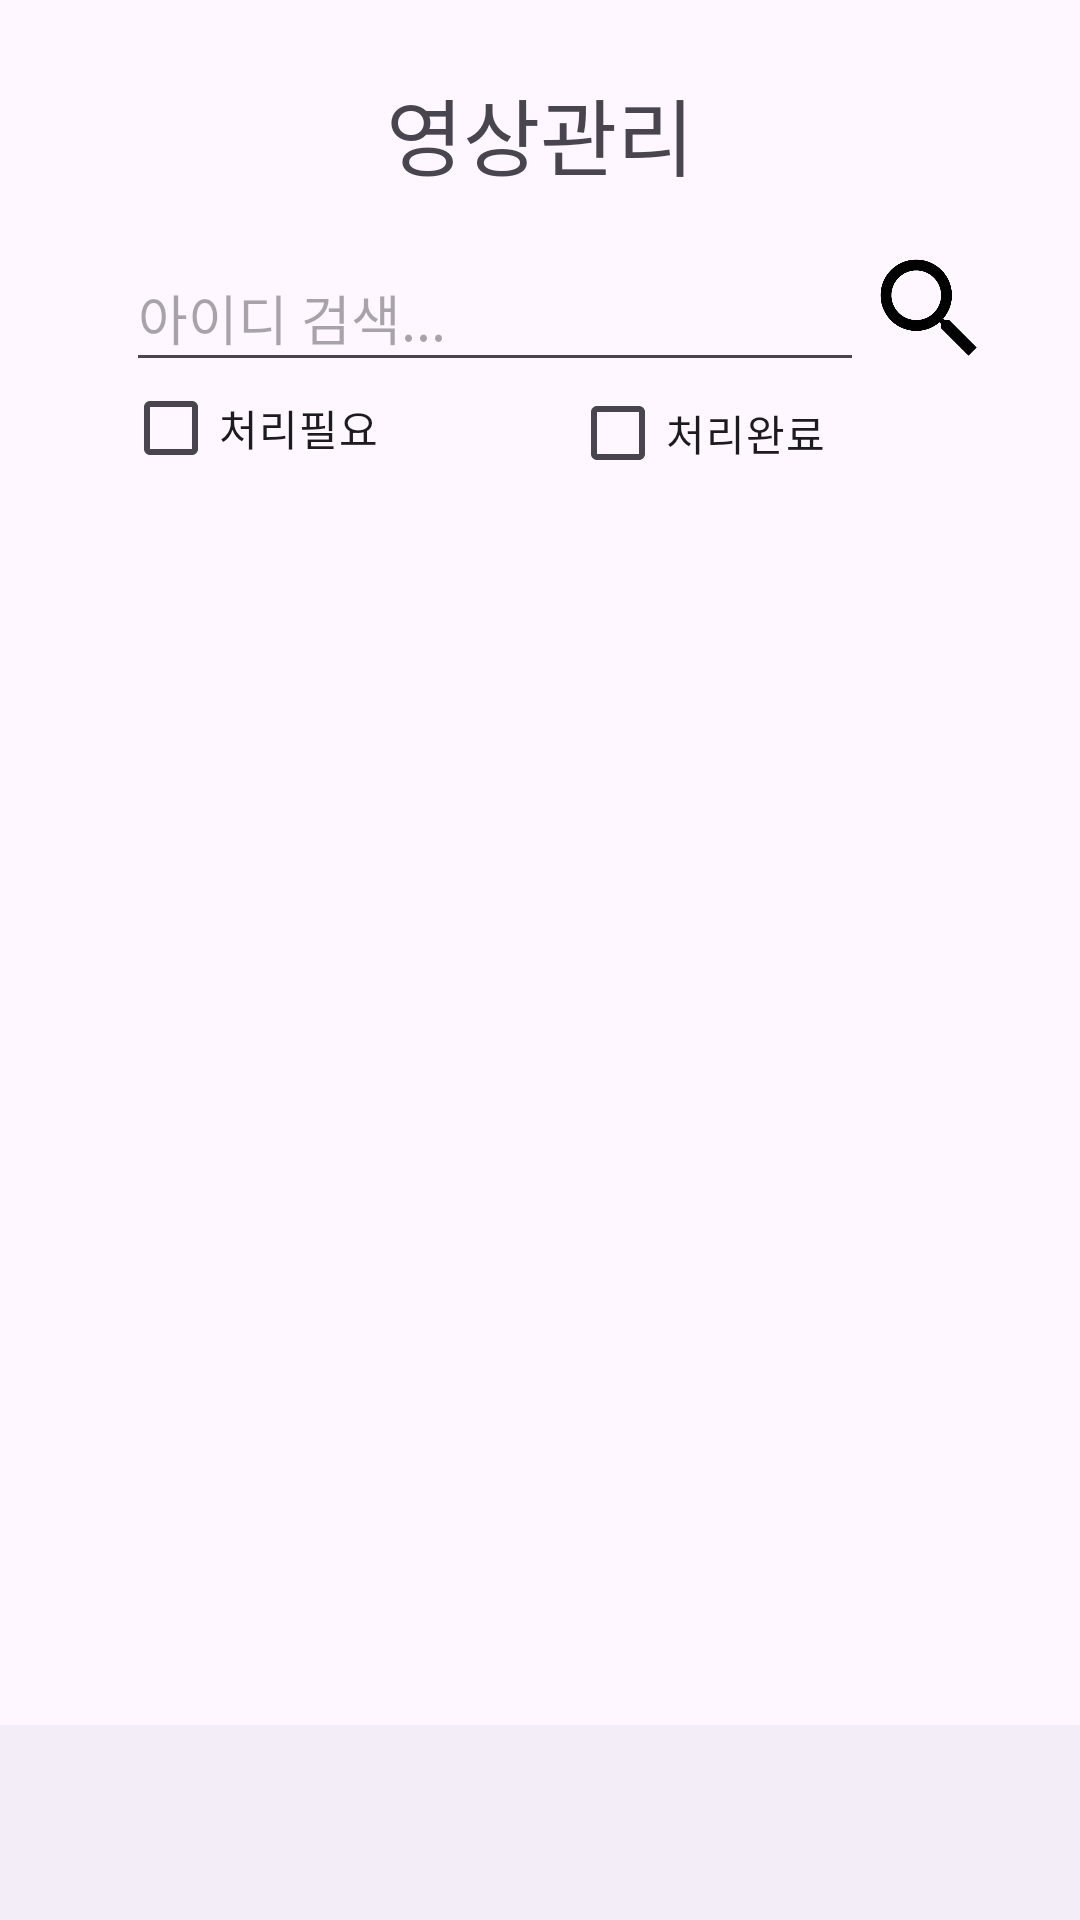

Named icons in this screenshot (1080 × 1920) and their bounding boxes, (x1, y1, x2, y2):
searching: (880, 259, 977, 356)
